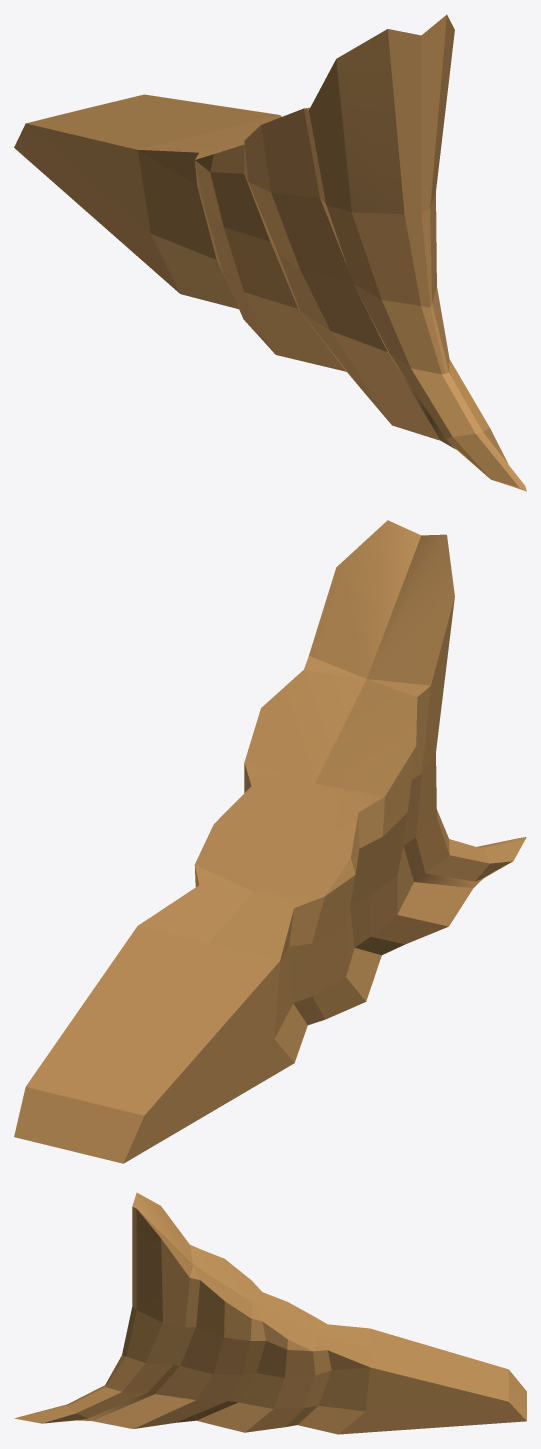
The model's file is SM_Veh_Ship_M_Ram_01.fbx.
The picture shows the model from 3 angles, top to bottom: view 1: azimuth 30°, elevation 25°; view 2: azimuth 150°, elevation 25°; view 3: azimuth 270°, elevation 25°; orthographic projection. The views are drawn at different scales.
Parts seen in each view (by area): view 1: SM_Veh_Ship_M_Ram_01; view 2: SM_Veh_Ship_M_Ram_01; view 3: SM_Veh_Ship_M_Ram_01.
Part boxes in pixels (x1,y1,x2,y2): SM_Veh_Ship_M_Ram_01: (14, 14, 526, 491); SM_Veh_Ship_M_Ram_01: (14, 520, 526, 1163); SM_Veh_Ship_M_Ram_01: (14, 1192, 526, 1434).
Bounding box in the file's own units: 130 × 315 × 663.
